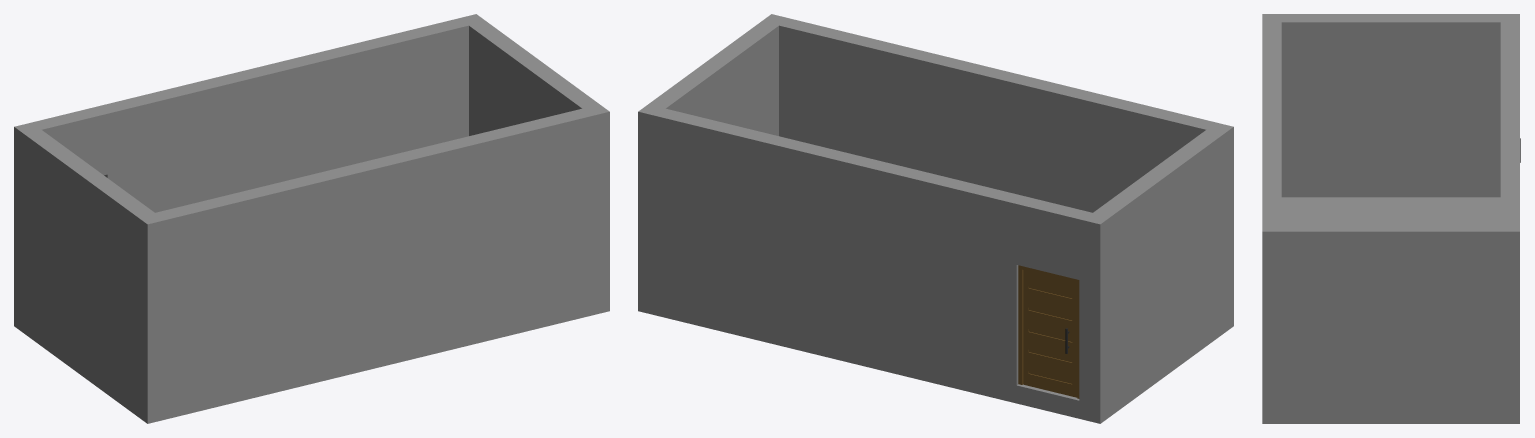
The model's file is MSH_Room_Double.fbx.
3 views of the same model, side by side, from view 1: azimuth 30°, elevation 25°; view 2: azimuth 150°, elevation 25°; view 3: azimuth 270°, elevation 25° (orthographic). The views are drawn at different scales.
Parts seen in each view (by area): view 1: MSH_Room_Double; view 2: MSH_Room_Double, MSH_Door_Single001, MSH_DoorFrame_Single001; view 3: MSH_Room_Double.
Boxes of the visible parts, x1=… form: MSH_Room_Double: x1=14, y1=14, x2=609, y2=423; MSH_Room_Double: x1=638, y1=14, x2=1233, y2=423; MSH_Door_Single001: x1=1023, y1=270, x2=1077, y2=397; MSH_DoorFrame_Single001: x1=1018, y1=265, x2=1079, y2=398; MSH_Room_Double: x1=1262, y1=14, x2=1519, y2=423.
Bounding box in the file's own units: 315 × 130 × 158.
